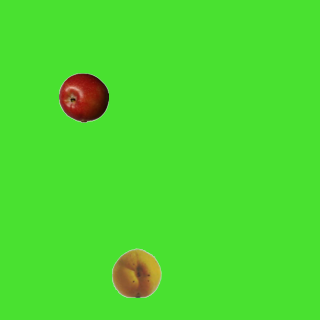Apple Braeburn: (58, 72, 108, 122)
Peach 2: (111, 247, 161, 297)
